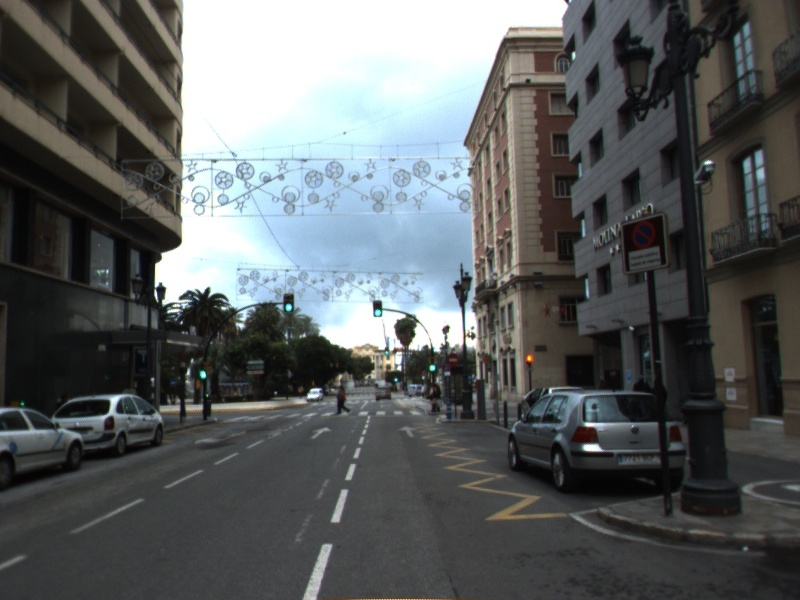STRAIGHT: (308, 425, 334, 441), (396, 424, 420, 439)
STRAIGHT_LEFT: (193, 429, 248, 447)
